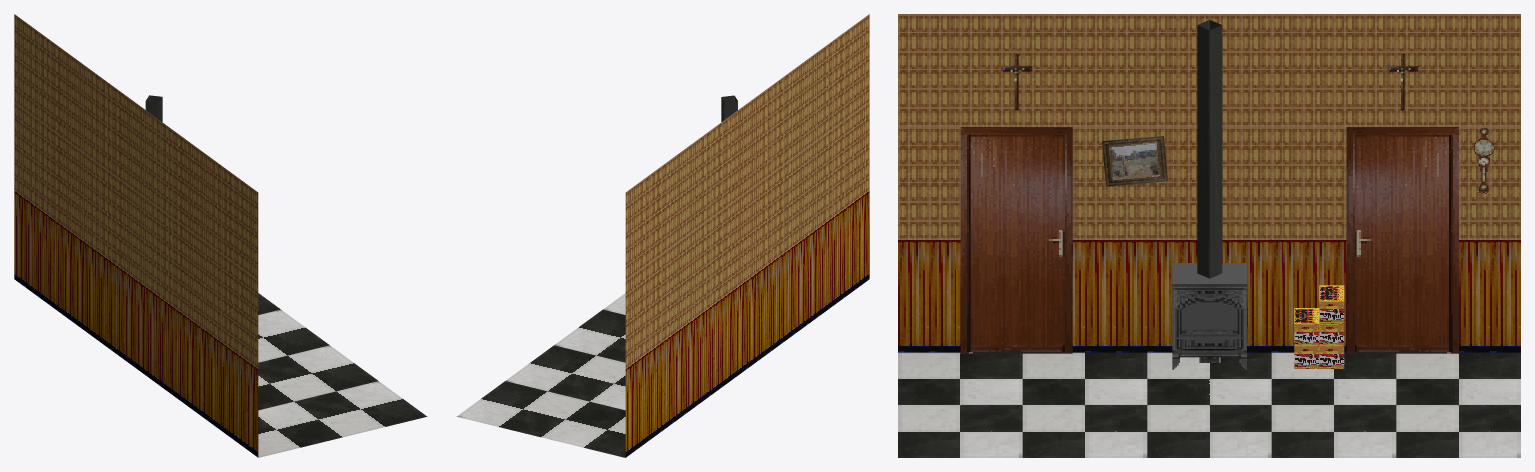
The model's file is interieur.glb.
The picture shows the model from 3 angles, left to right: view 1: azimuth 30°, elevation 25°; view 2: azimuth 150°, elevation 25°; view 3: azimuth 270°, elevation 25°; orthographic projection. The views are drawn at different scales.
Visible parts, largest first — view 1: house; view 2: house; view 3: house, door, door.001, Cube, doorframe, doorframe.001, fotokader, Jupiler.004, Jupiler.003, barometer.
Boxes of the visible parts, x1,y1,x2,y2 form: house: (14, 14, 427, 457); house: (456, 14, 869, 457); house: (898, 14, 1520, 457); door: (970, 136, 1062, 353); door.001: (1356, 136, 1448, 353); Cube: (1172, 20, 1246, 369); doorframe: (960, 128, 1072, 353); doorframe.001: (1346, 128, 1458, 353); fotokader: (1102, 136, 1167, 186); Jupiler.004: (1319, 285, 1344, 323); Jupiler.003: (1294, 308, 1319, 346); barometer: (1472, 127, 1494, 193).
Size of the model in its own units: 2 by 3 by 5.
Materials: 9 (7 with a texture image).
